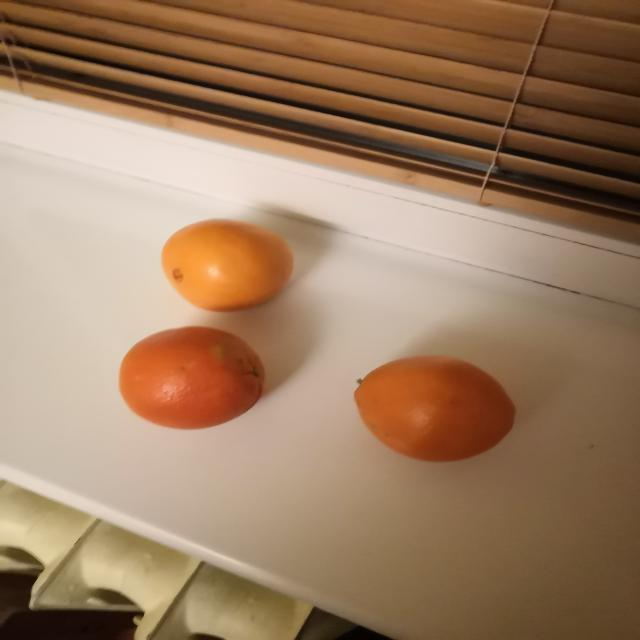orange: (353, 355, 515, 461), (120, 326, 265, 429), (162, 219, 293, 311)
